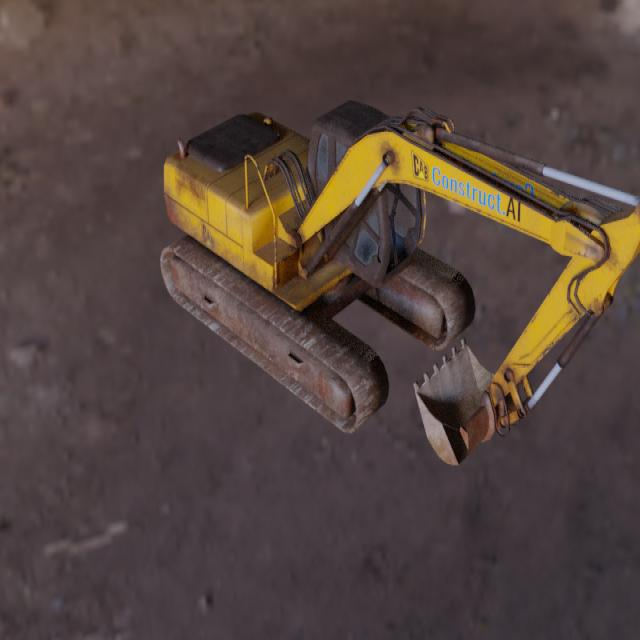excavator: (160, 99, 640, 465)
